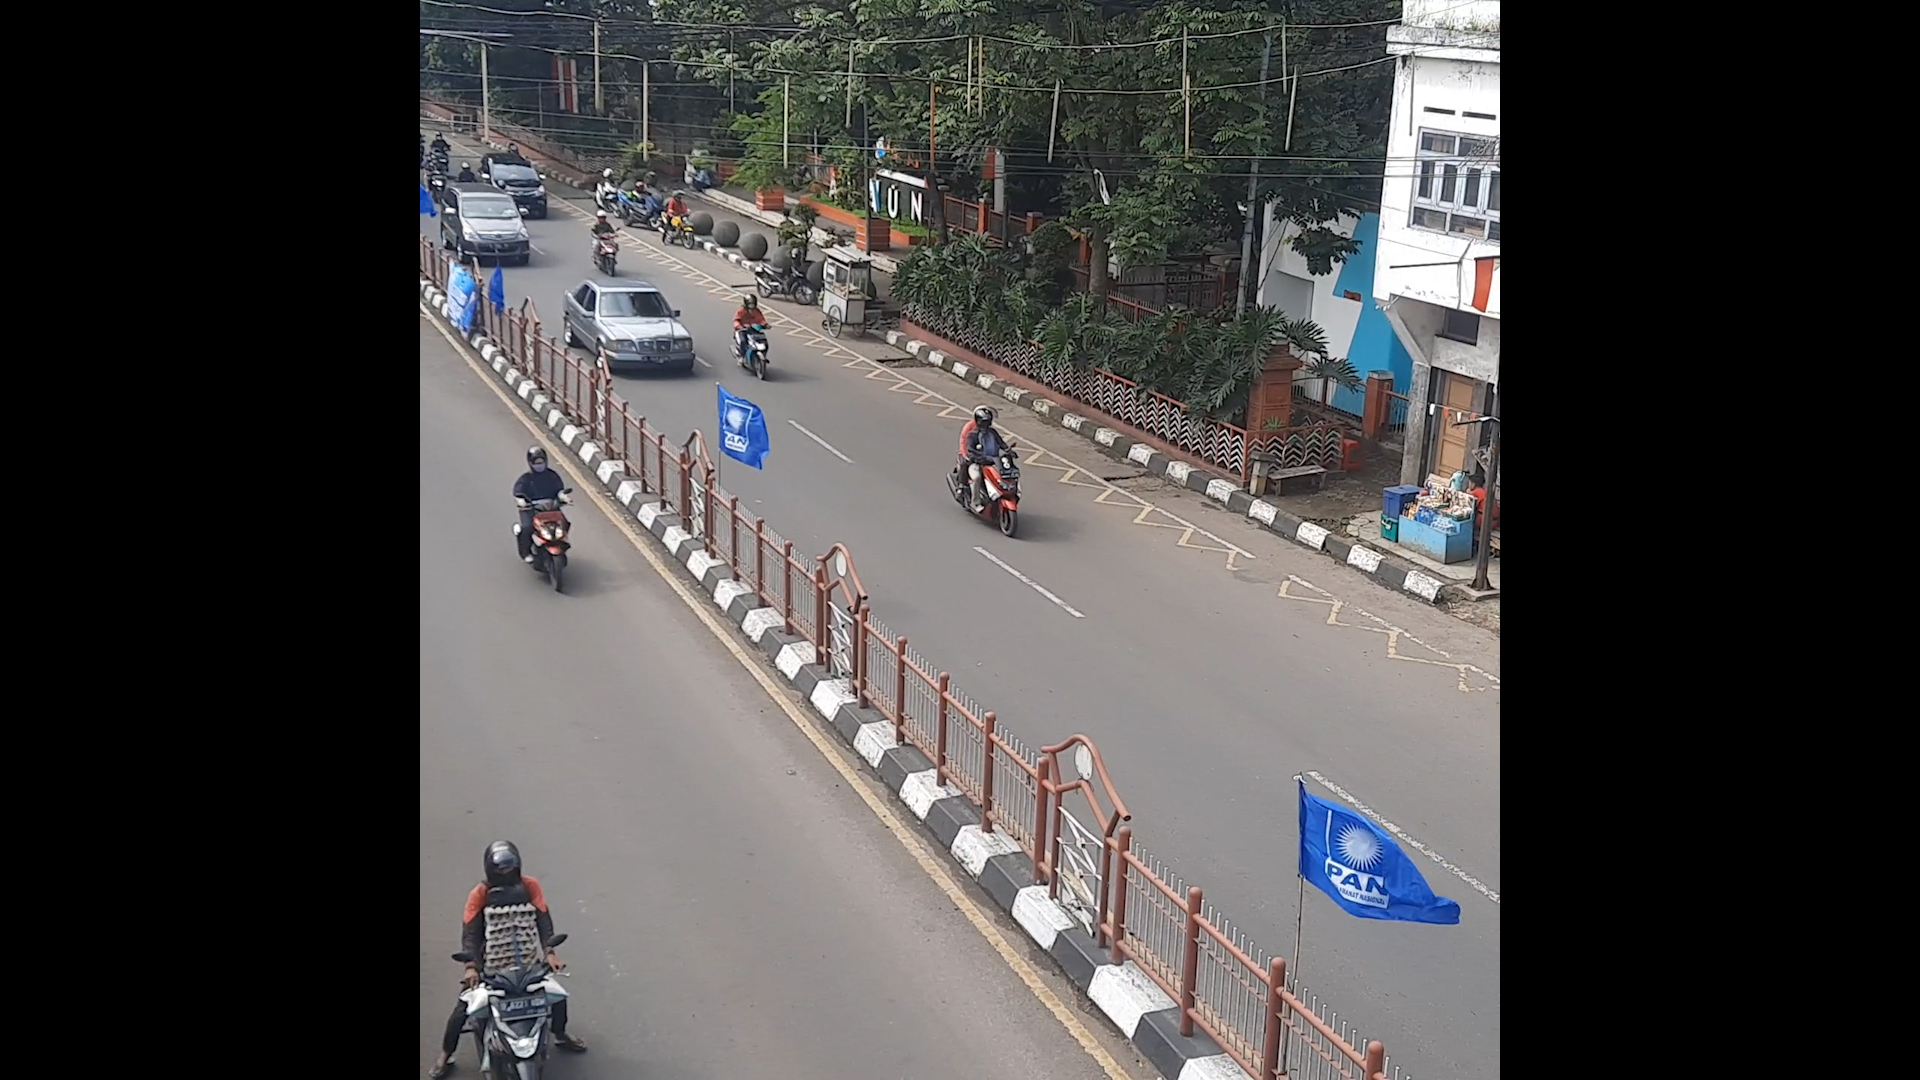mobil: (454, 195, 530, 262)
motor: (454, 843, 572, 1080), (509, 446, 579, 596), (947, 404, 1025, 537), (732, 291, 775, 381)
sedan: (560, 273, 702, 376)
